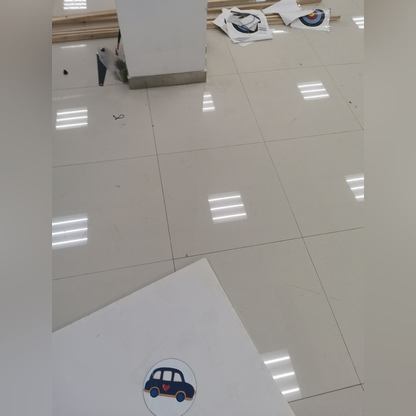car: (144, 360, 201, 412)
